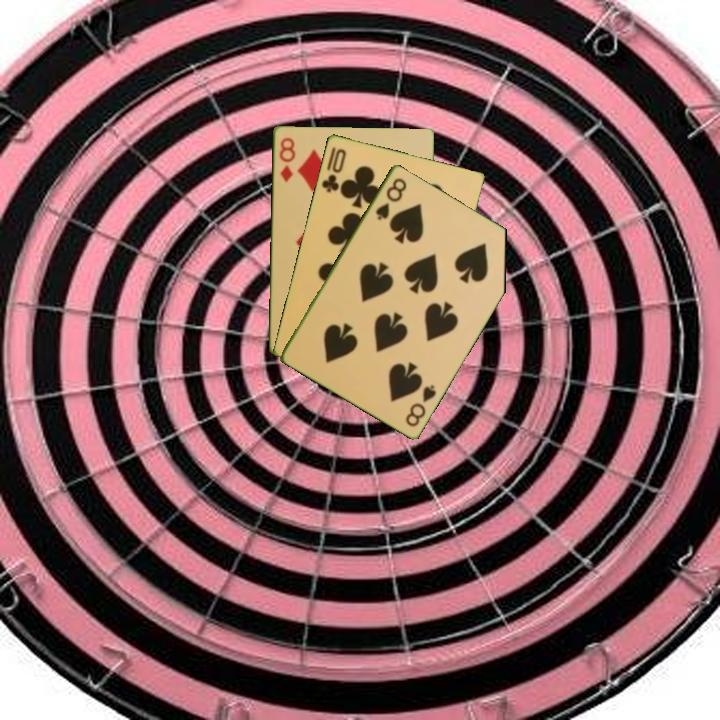10c: (318, 145, 349, 195)
8d: (276, 134, 298, 185)
8s: (371, 174, 409, 223), (402, 381, 439, 429)
